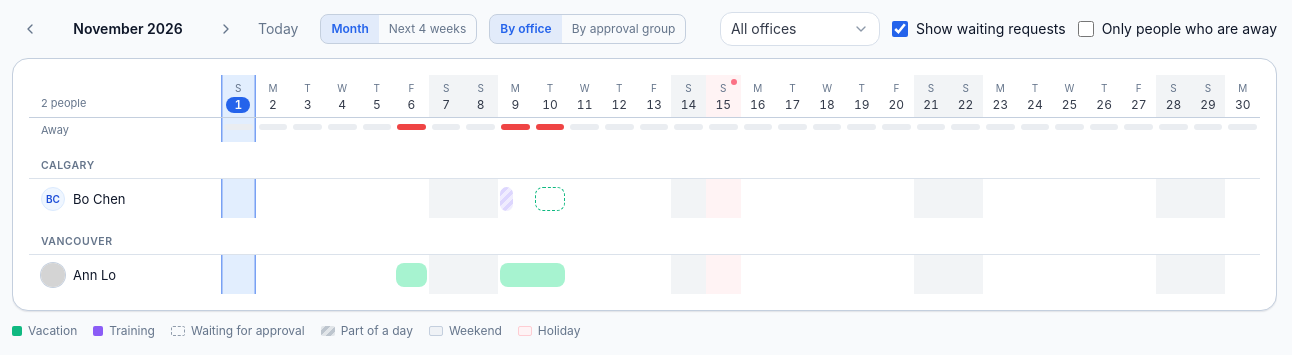
Test: Wallchart › holidays are named in the date header; group by approval group
Click the button "By approval group": (624, 29) 562,15 -> 685,43
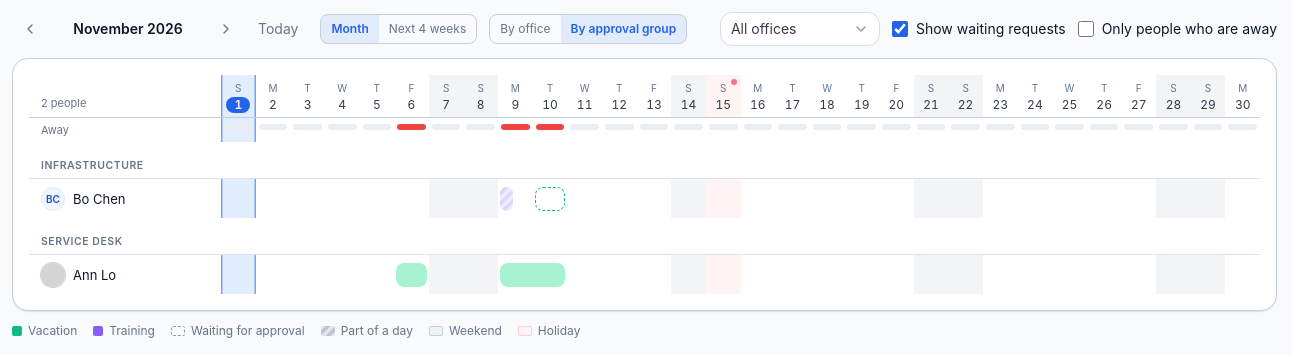
Expected: the text "Service desk" is shown, 29,218 -> 221,254
Expected: the text "Infrastructure" is shown, 29,142 -> 221,178
